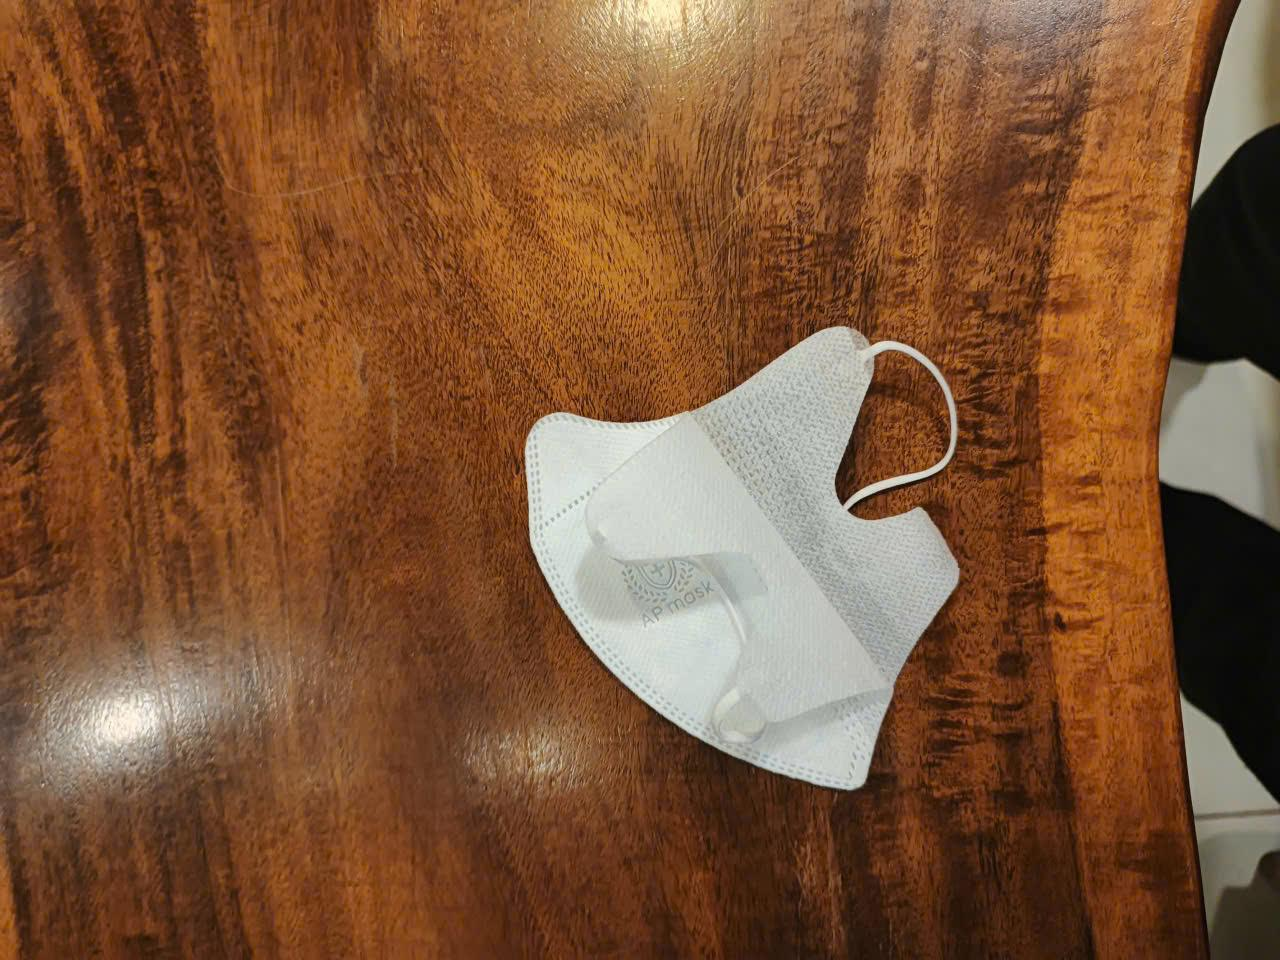Con lai: (528, 321, 958, 799)
